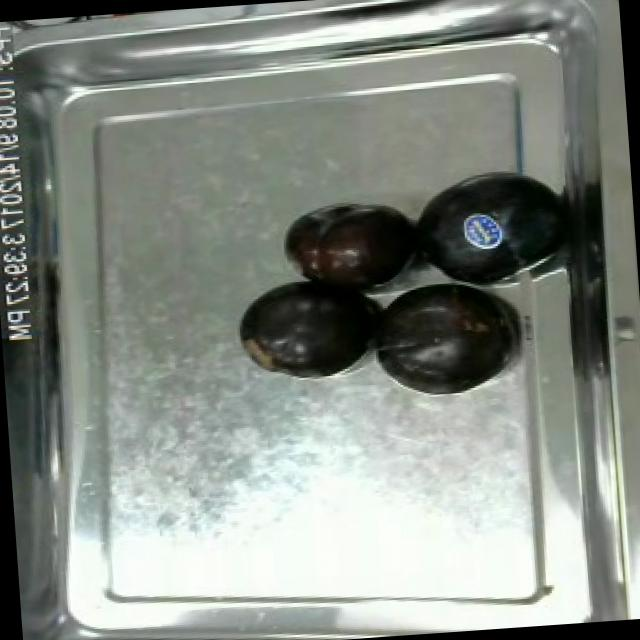Fruit: (402, 161, 568, 294), (360, 273, 514, 403), (228, 270, 384, 386), (272, 195, 425, 305)
